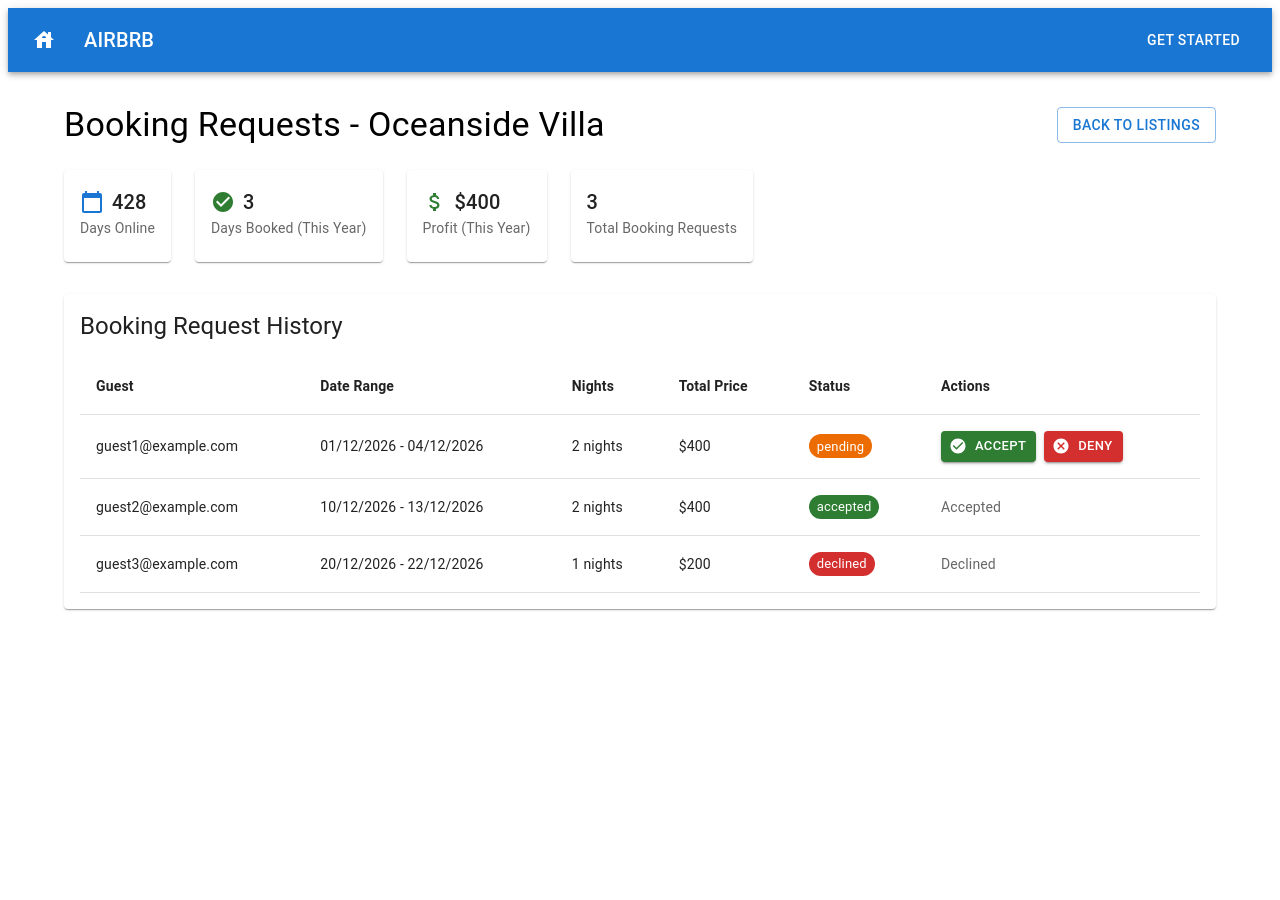
Scenario: BookingRequests › displays error message when accepting booking fails
Click the button "Accept". click: (989, 446)
box: [941,431,1036,462]
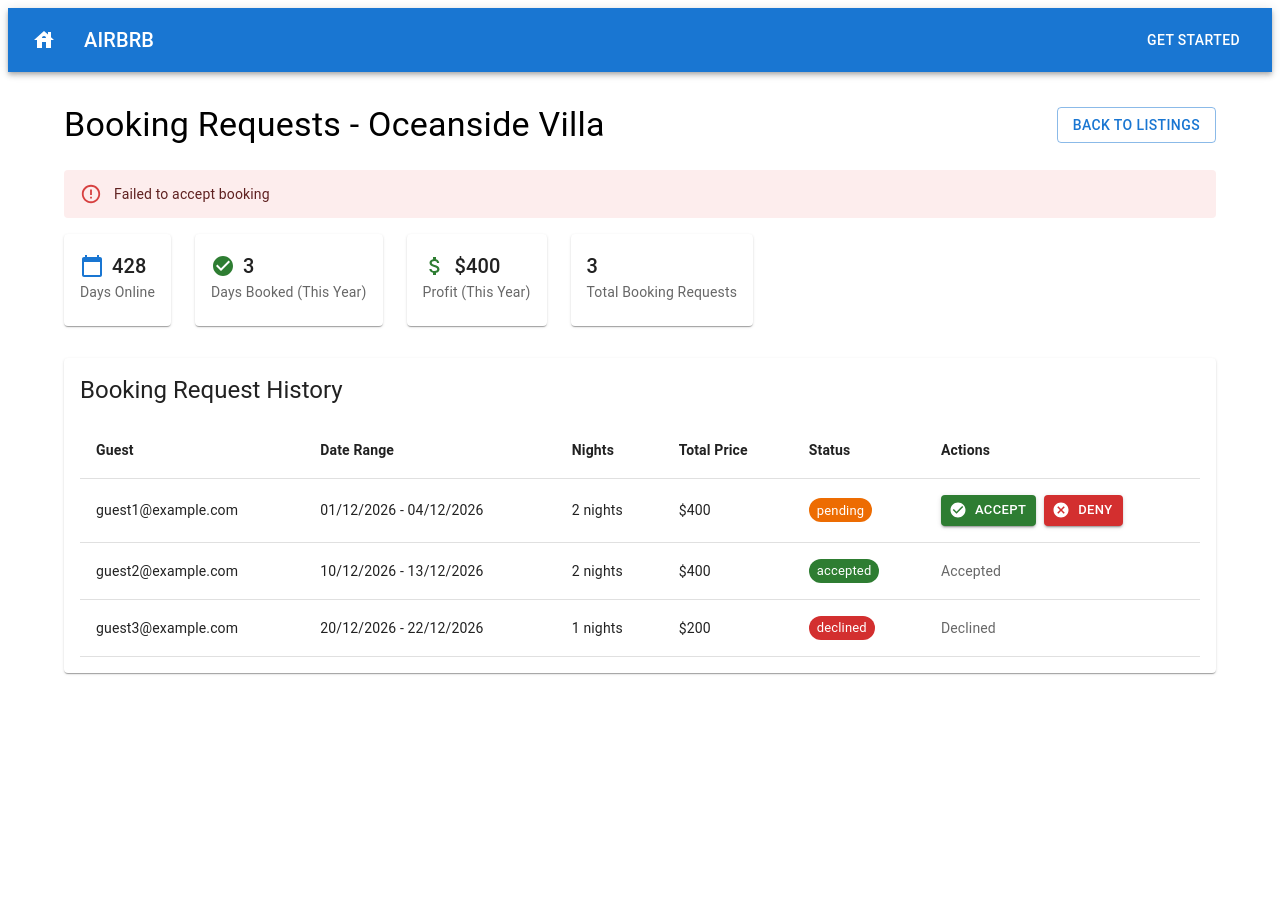
Check: the text "Failed to accept booking" is shown, box [114,186,270,202]
